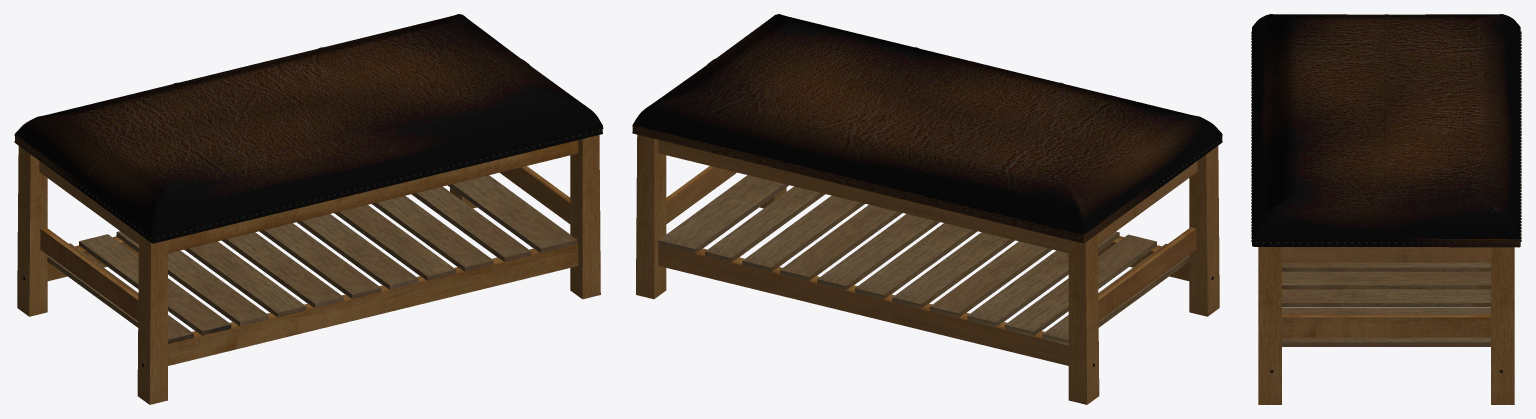
Rendered from LOON1400_v6_LOD2.obj.
3 renders of one model, left to right at view 1: azimuth 30°, elevation 25°; view 2: azimuth 150°, elevation 25°; view 3: azimuth 270°, elevation 25°, orthographic. The views are drawn at different scales.
Visible parts, largest first — view 1: not_clear_obj_2_v6, not_clear_obj_1_v6, not_clear_obj_5_v6, not_clear_obj_4_v6; view 2: not_clear_obj_2_v6, not_clear_obj_1_v6, not_clear_obj_5_v6, not_clear_obj_4_v6; view 3: not_clear_obj_2_v6, not_clear_obj_1_v6, not_clear_obj_5_v6, not_clear_obj_4_v6.
Boxes of the visible parts, left/top/right/bottom form: not_clear_obj_2_v6: left=14, top=14, right=602, bottom=243; not_clear_obj_1_v6: left=17, top=135, right=600, bottom=404; not_clear_obj_5_v6: left=47, top=175, right=577, bottom=344; not_clear_obj_4_v6: left=16, top=127, right=603, bottom=239; not_clear_obj_2_v6: left=632, top=14, right=1222, bottom=243; not_clear_obj_1_v6: left=636, top=134, right=1219, bottom=404; not_clear_obj_5_v6: left=658, top=175, right=1189, bottom=345; not_clear_obj_4_v6: left=636, top=129, right=1222, bottom=239; not_clear_obj_2_v6: left=1251, top=14, right=1521, bottom=247; not_clear_obj_1_v6: left=1258, top=207, right=1514, bottom=404; not_clear_obj_5_v6: left=1282, top=262, right=1490, bottom=346; not_clear_obj_4_v6: left=1251, top=31, right=1521, bottom=244.
Size of what is drawn, in the model's own units: 109 by 45.69 by 58.41.
6 materials, 3 textured.
